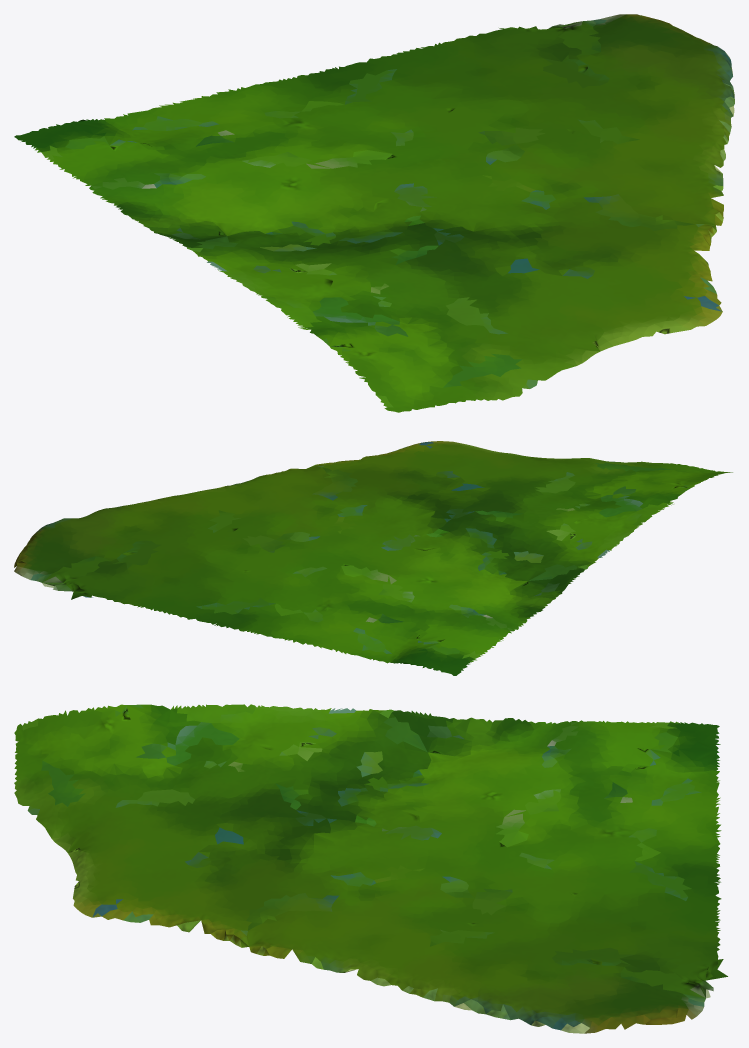
File: chunk_3_1_LOD0.glb
3 views of the same model, one above another, from view 1: azimuth 30°, elevation 25°; view 2: azimuth 150°, elevation 25°; view 3: azimuth 270°, elevation 25° (orthographic). The views are drawn at different scales.
Visible parts, largest first — view 1: chunk_3_1_LOD0; view 2: chunk_3_1_LOD0; view 3: chunk_3_1_LOD0.
Boxes of the visible parts, <box> form: chunk_3_1_LOD0: <box>14,14,734,412</box>; chunk_3_1_LOD0: <box>14,441,732,675</box>; chunk_3_1_LOD0: <box>14,704,727,1033</box>.
Bounding box in the file's own units: 96.27 × 6.42 × 99.88.
Materials: 1 (1 with a texture image).
